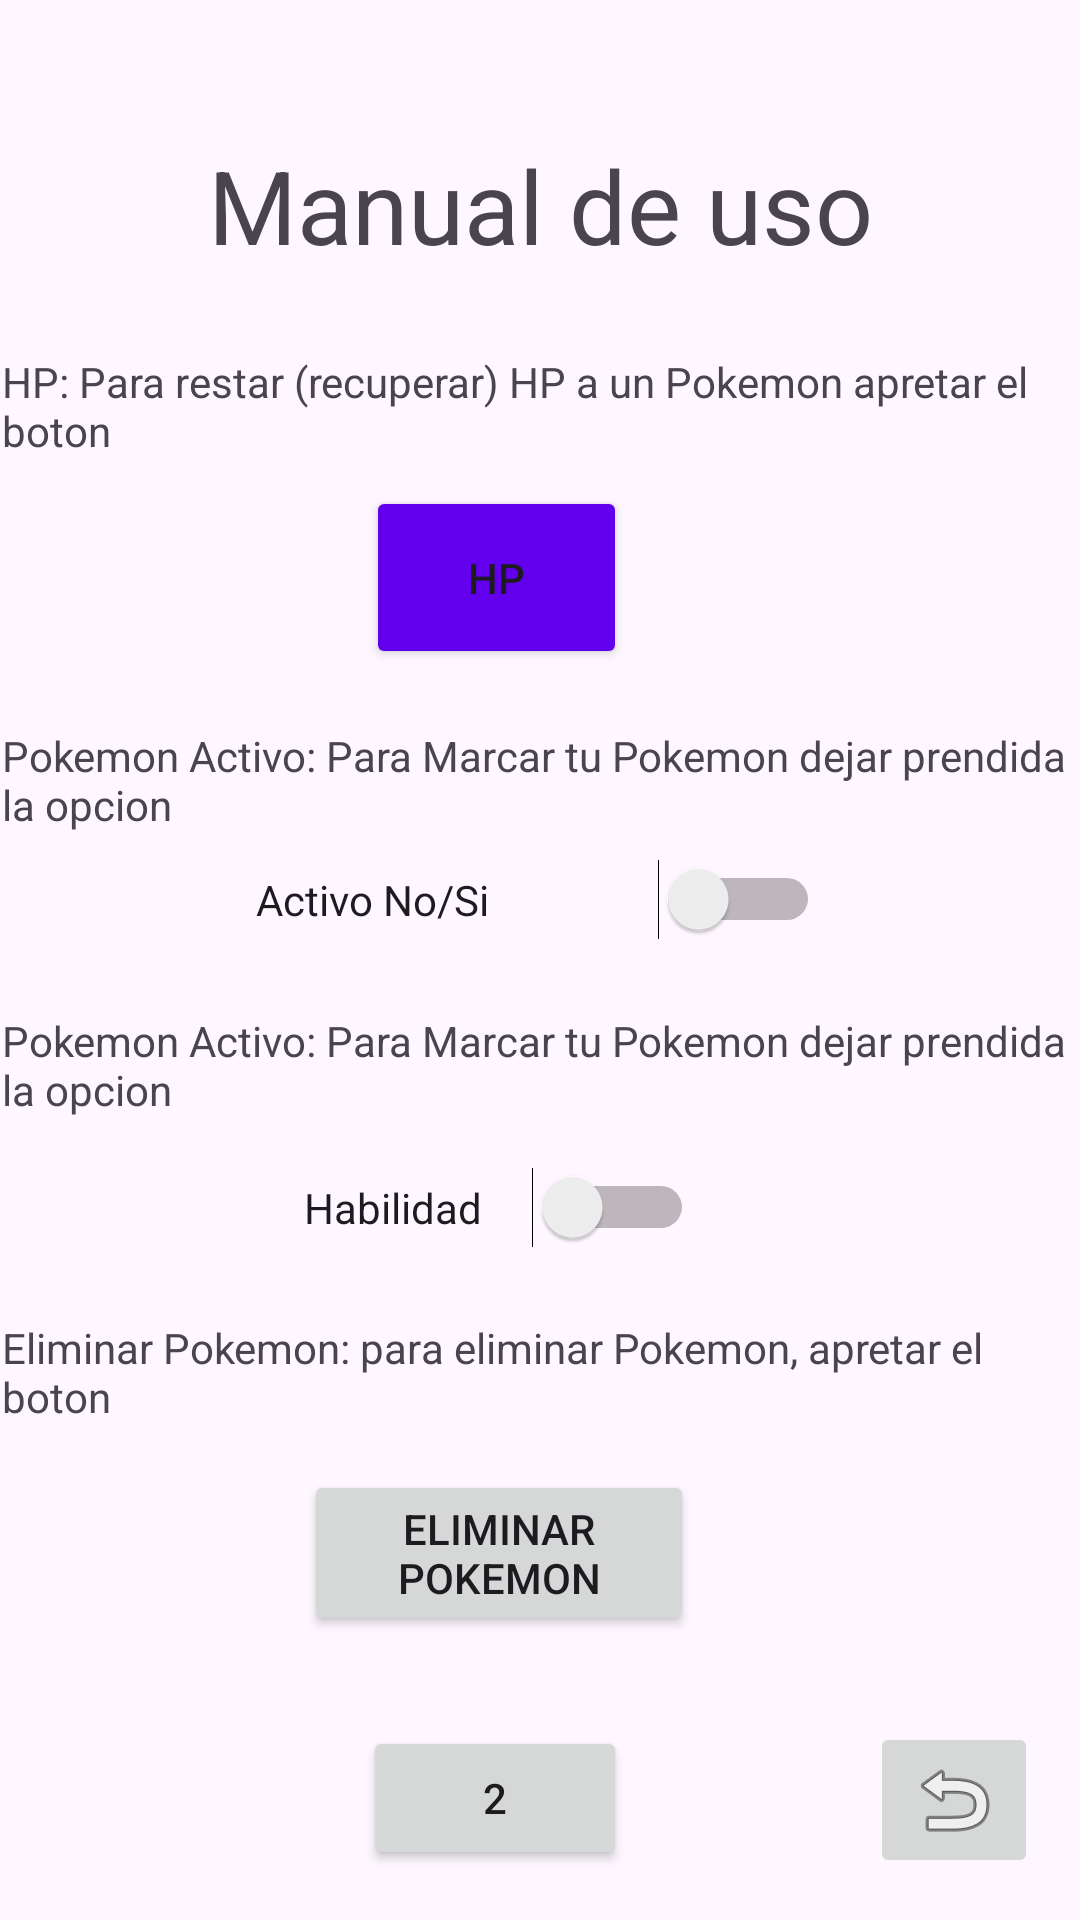

Icon bounding boxes for this 1080x1920 phone screenshot, format (x1, y1, x2, y2):
revert: (882, 1740, 1026, 1860)
